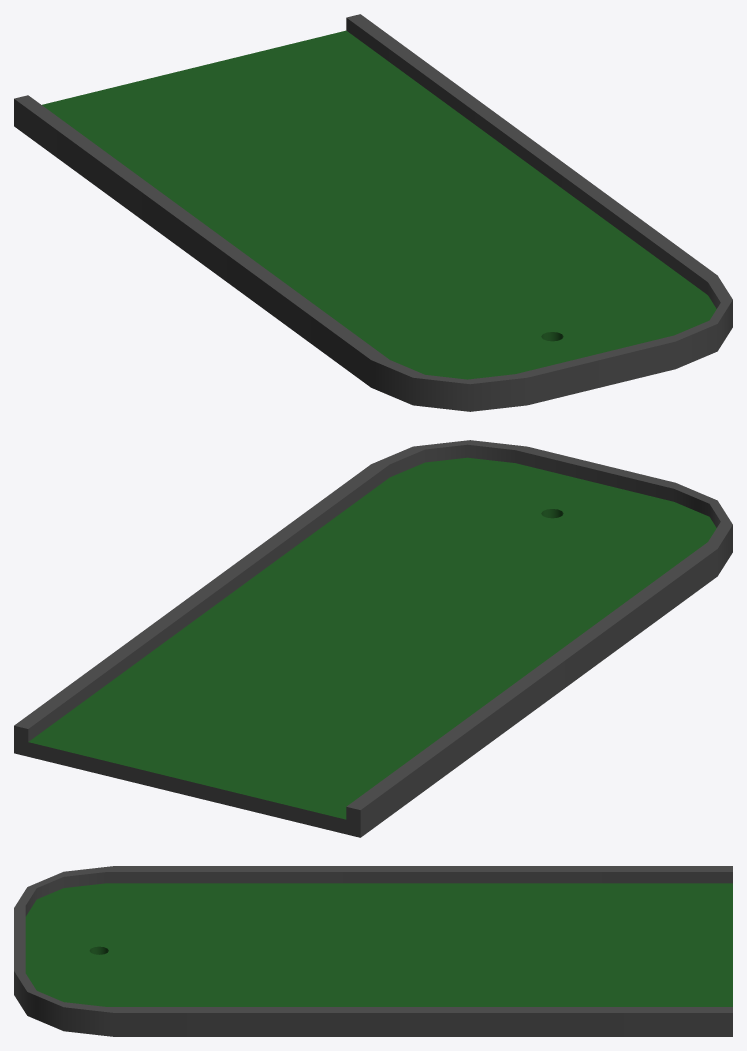
The model's file is GolfField.fbx.
3 renders of one model, top to bottom at view 1: azimuth 30°, elevation 25°; view 2: azimuth 150°, elevation 25°; view 3: azimuth 270°, elevation 25°, orthographic. The views are drawn at different scales.
Parts seen in each view (by area): view 1: SM_Golf_Field; view 2: SM_Golf_Field; view 3: SM_Golf_Field.
Boxes of the visible parts, left/top/right/bottom form: SM_Golf_Field: left=14, top=14, right=732, bottom=411; SM_Golf_Field: left=14, top=440, right=732, bottom=837; SM_Golf_Field: left=14, top=866, right=732, bottom=1036.
Bounding box in the file's own units: 3.37 × 0.2571 × 6.98.
